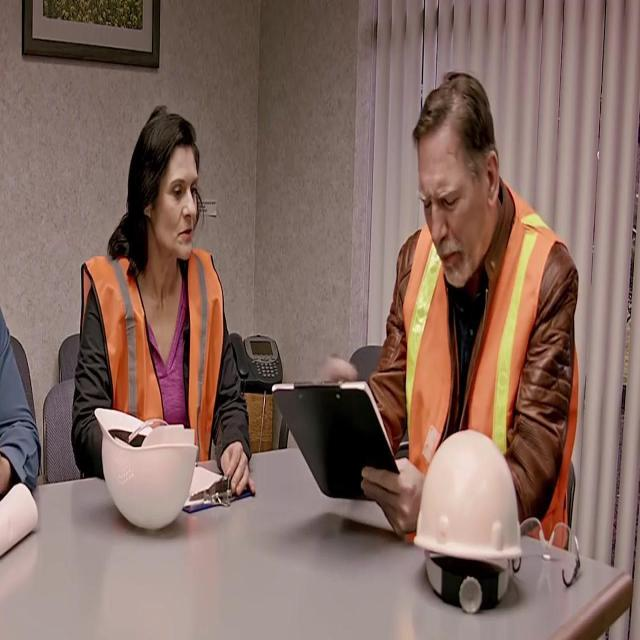Vest: (404, 180, 581, 548), (77, 247, 223, 461)
